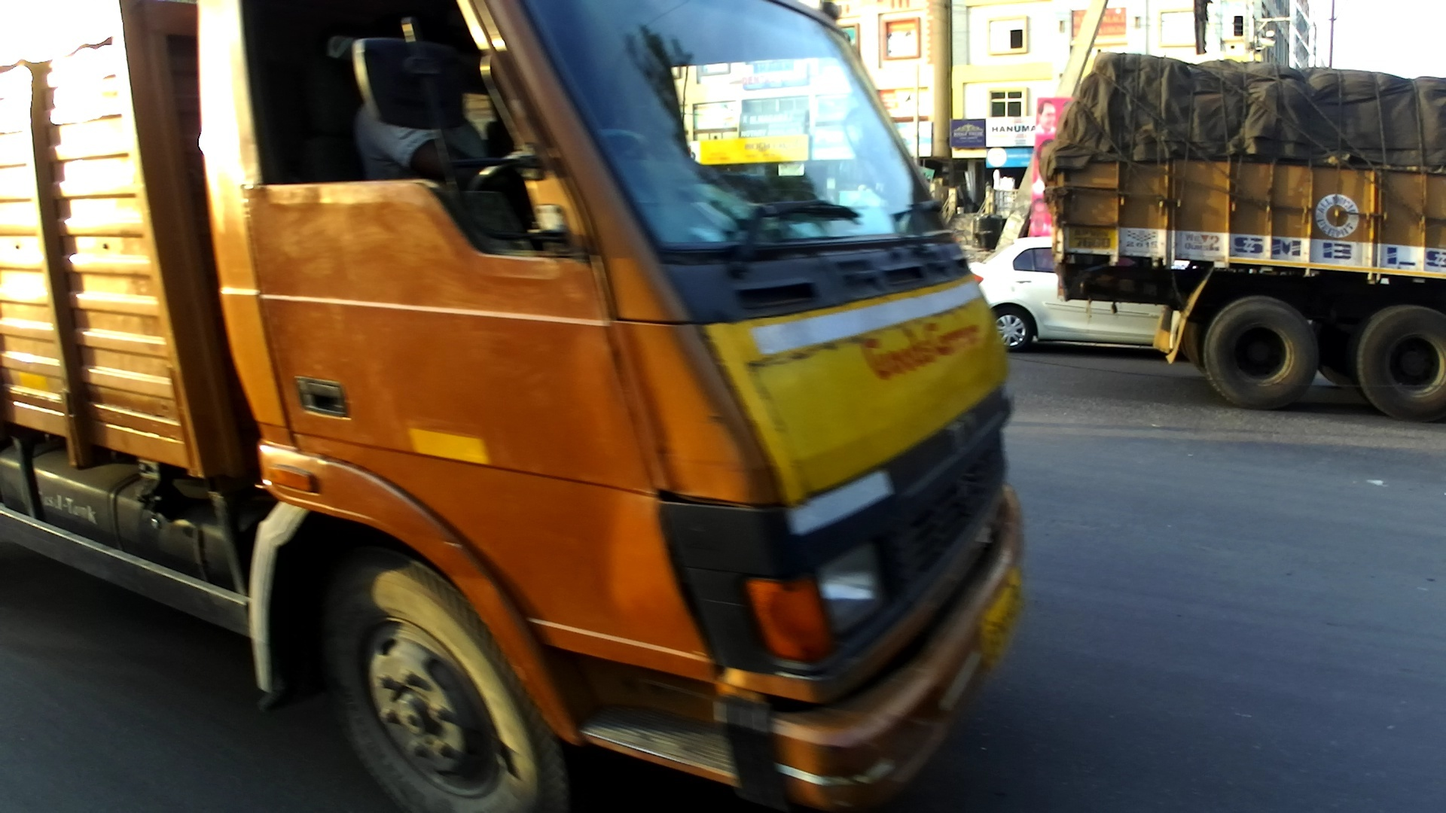car: (959, 236, 1193, 350)
truck: (1, 1, 1028, 813), (1036, 54, 1446, 426)
